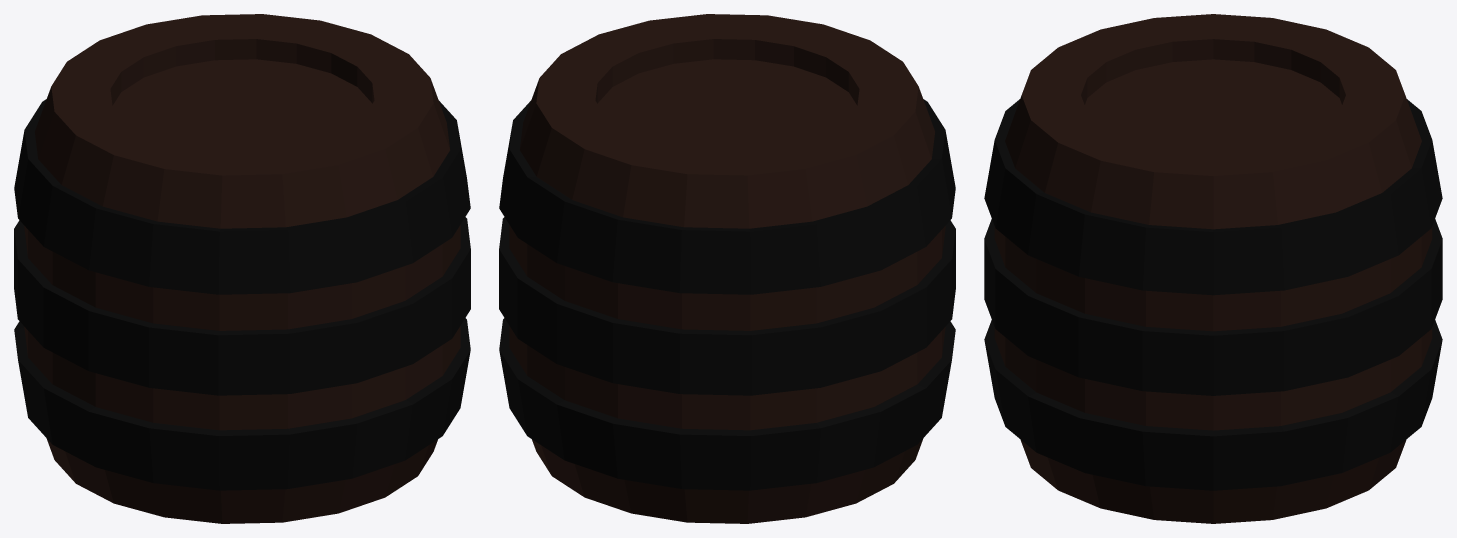
Rendered from barrel1(F302).obj.
3 views of the same model, side by side, from view 1: azimuth 30°, elevation 25°; view 2: azimuth 150°, elevation 25°; view 3: azimuth 270°, elevation 25° (orthographic).
Visible parts, largest first — view 1: Cylinder.001; view 2: Cylinder.001; view 3: Cylinder.001.
Part boxes in pixels (x1,y1,x2,y2): Cylinder.001: (14,14,470,523); Cylinder.001: (499,14,955,523); Cylinder.001: (984,14,1442,523).
Bounding box in the file's own units: 2.39 × 2 × 2.39.
